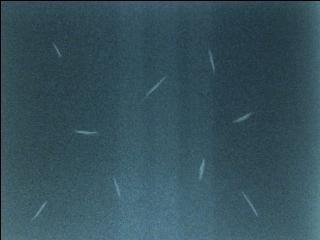scratch: (140, 73, 169, 104), (235, 187, 259, 219), (30, 197, 50, 222), (203, 45, 217, 79), (49, 38, 67, 61), (230, 110, 255, 124), (198, 157, 208, 183), (73, 128, 99, 137), (112, 176, 121, 199)
